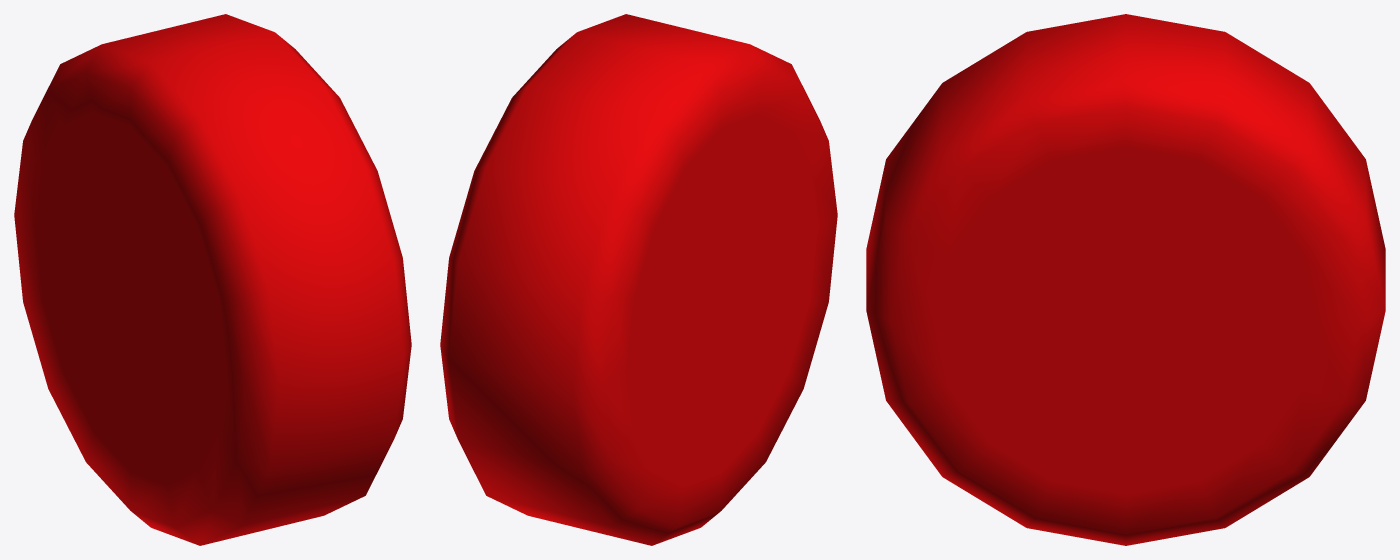
The model's file is CarTire(withdis).fbx.
3 views of the same model, side by side, from view 1: azimuth 30°, elevation 25°; view 2: azimuth 150°, elevation 25°; view 3: azimuth 270°, elevation 25° (orthographic).
Visible parts, largest first — view 1: Tire(withdish); view 2: Tire(withdish); view 3: Tire(withdish).
Part boxes in pixels (x1,y1,x2,y2): Tire(withdish): (14,14,411,545); Tire(withdish): (440,14,837,545); Tire(withdish): (866,14,1385,545).
Size of the model in its own units: 26.22 by 70.65 by 70.65.
